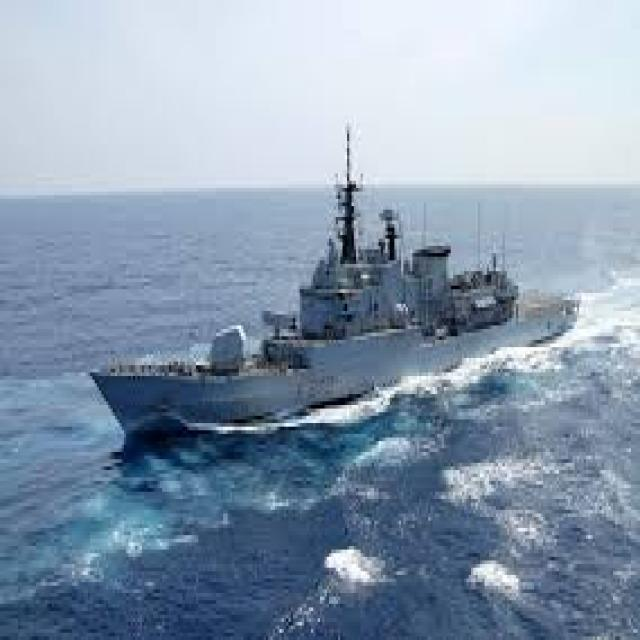navalvessels: (86, 109, 594, 444)
